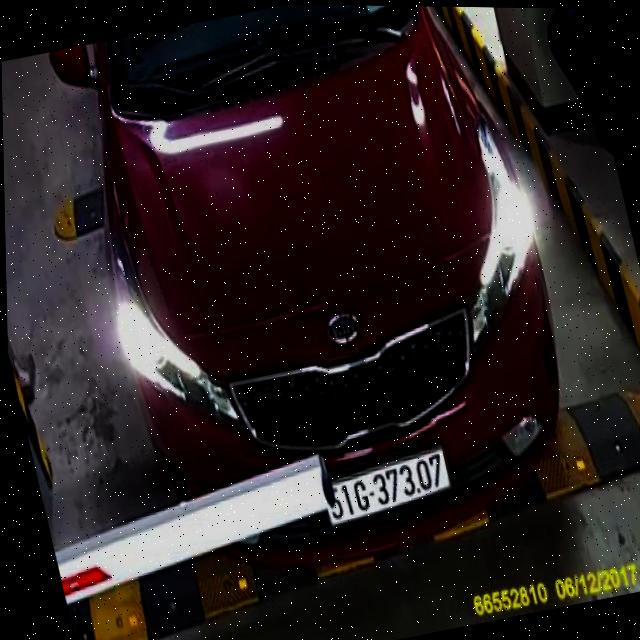car: (44, 1, 609, 604)
plate: (309, 447, 463, 533)
